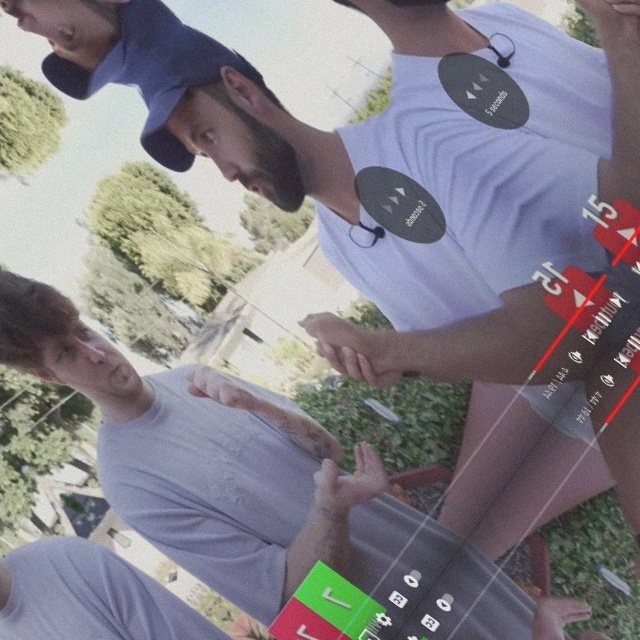Rock: (176, 353, 263, 431), (0, 640, 53, 640)
